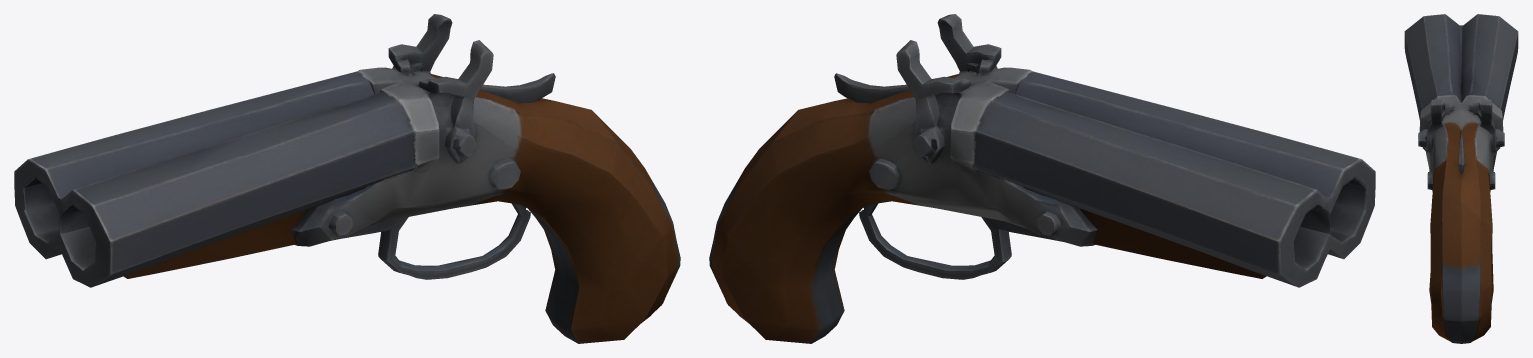
File: sawed_off_double_barrel_low.glb
3 views of the same model, side by side, from view 1: azimuth 30°, elevation 25°; view 2: azimuth 150°, elevation 25°; view 3: azimuth 270°, elevation 25° (orthographic). The views are drawn at different scales.
Visible parts, largest first — view 1: geometry_0; view 2: geometry_0; view 3: geometry_0.
Boxes of the visible parts, x1=… form: geometry_0: x1=14, y1=14, x2=680, y2=343; geometry_0: x1=709, y1=14, x2=1375, y2=343; geometry_0: x1=1404, y1=14, x2=1518, y2=343.
Bounding box in the file's own units: 1.2 × 0.6334 × 0.3285.
1 material, 1 textured.
